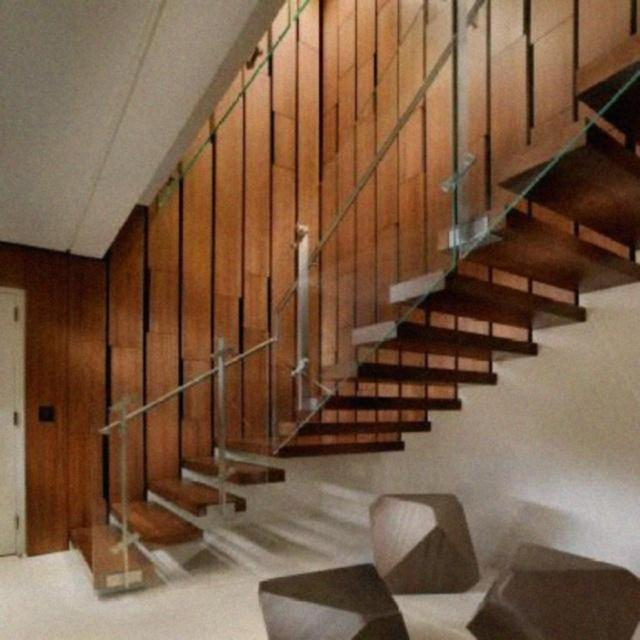stair: (25, 0, 640, 612)
